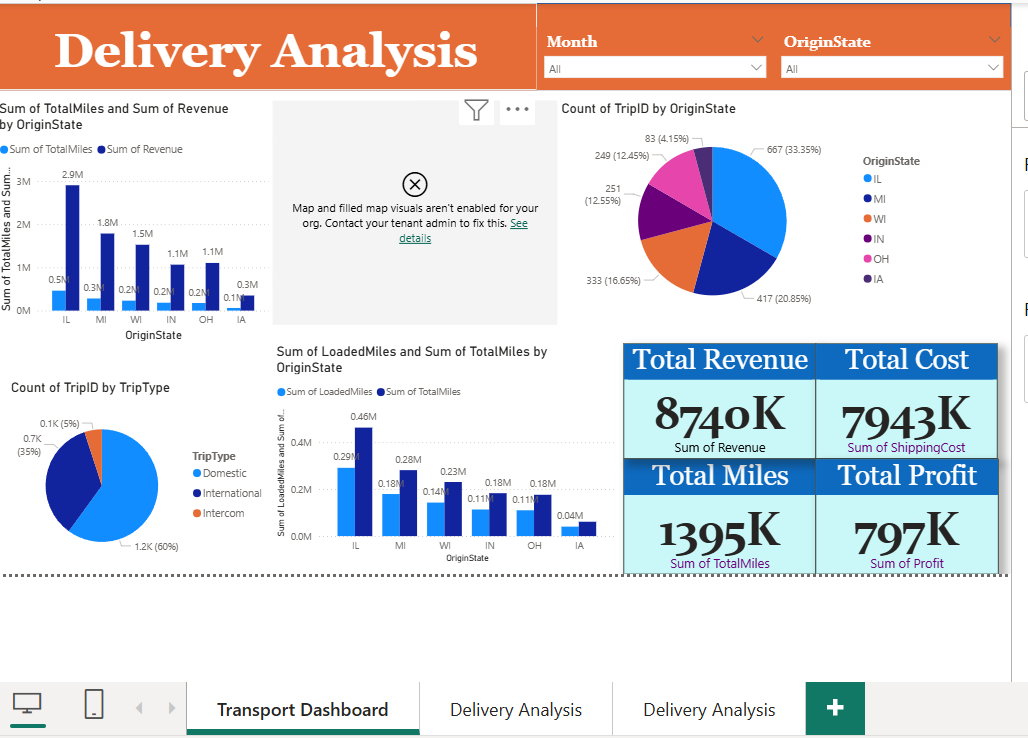

This screenshot's page, from the dashboard's own definition file:
{"tool":"powerbi","page":{"name":"Transport Dashboard","canvas":[1280,720],"ordinal":0},"visuals":[{"type":"card","title":"Total Miles","fields":{"Values":["Sum(Trips.TotalMiles)"]},"box":[791.8,575,242.9,145.5],"z":0},{"type":"card","title":"Total Revenue","fields":{"Values":["Sum(Trips.Revenue)"]},"box":[791.8,429.5,242.9,145.5],"z":1000},{"type":"card","title":"Total Cost","fields":{"Values":["Sum(Trips.ShippingCost)"]},"box":[1034.7,429.5,229.2,145.5],"z":2000},{"type":"card","title":"Total Profit","fields":{"Values":["Sum(Trips.Profit)"]},"box":[1034.7,575,230.5,145.5],"z":3000},{"type":"clusteredColumnChart","fields":{"Category":["Trips.OriginState"],"Y":["Sum(Trips.TotalMiles)","Sum(Trips.Revenue)"]},"box":[0,122.1,349.9,307.4],"z":4000},{"type":"map","fields":{"Category":["Trips.OriginCity"],"Size":["Sum(Trips.Revenue)"]},"box":[349.9,122.1,359.5,282.7],"z":5000},{"type":"slicer","fields":{"Values":["Trips.OriginState"]},"box":[1008.6,19.2,256.6,71.4],"z":6000},{"type":"slicer","fields":{"Values":["Trips.ShipDate.Variation.Date Hierarchy.Month"]},"box":[1020.9,19.2,259.3,71.4],"z":7000},{"type":"pieChart","fields":{"Y":["CountNonNull(Trips.TripID)"],"Category":["Trips.TripType"]},"box":[14.5,474.1,335.4,246.1],"z":8000},{"type":"pieChart","fields":{"Y":["CountNonNull(Trips.TripID)"],"Category":["Trips.OriginState"]},"box":[709.4,122.1,478.9,282.7],"z":9000},{"type":"clusteredColumnChart","fields":{"Y":["Sum(Trips.LoadedMiles)","Sum(Trips.TotalMiles)"],"Category":["Trips.OriginState"]},"box":[349.9,429.5,436.4,281.3],"z":10000},{"type":"shape","box":[0,0,1280.3,109.8],"z":11000},{"type":"card","fields":{"Values":["Trips.Delivery Analysis Dashboard"]},"box":[0,0,682,109.8],"z":12000},{"type":"slicer","fields":{"Values":["Trips.OriginState"]},"box":[981.1,30.2,299.1,79.6],"z":13000},{"type":"slicer","fields":{"Values":["Trips.ShipDate.Variation.Date Hierarchy.Month"]},"box":[682,30.2,299.1,79.6],"z":14000}]}

Visuals, with their boxes on the page's 1280x720 design canvas (x1, y1, x2, y2). These are canvas units, not pixel positions in the 1028x738 screenshot, which may show the page scaled, cropped or inside an application window:
"Total Miles" card: detection(792, 575, 1035, 720)
"Total Revenue" card: detection(792, 430, 1035, 575)
"Total Cost" card: detection(1035, 430, 1264, 575)
"Total Profit" card: detection(1035, 575, 1265, 720)
clusteredColumnChart - Trips.OriginState x Sum(Trips.TotalMiles): detection(0, 122, 350, 430)
map - Trips.OriginCity x Sum(Trips.Revenue): detection(350, 122, 709, 405)
slicer - Trips.OriginState: detection(1009, 19, 1265, 91)
slicer - Trips.ShipDate.Variation.Date Hierarchy.Month: detection(1021, 19, 1280, 91)
pieChart - CountNonNull(Trips.TripID) x Trips.TripType: detection(14, 474, 350, 720)
pieChart - CountNonNull(Trips.TripID) x Trips.OriginState: detection(709, 122, 1188, 405)
clusteredColumnChart - Sum(Trips.LoadedMiles) x Sum(Trips.TotalMiles): detection(350, 430, 786, 711)
shape: detection(0, 0, 1280, 110)
card - Trips.Delivery Analysis Dashboard: detection(0, 0, 682, 110)
slicer - Trips.OriginState: detection(981, 30, 1280, 110)
slicer - Trips.ShipDate.Variation.Date Hierarchy.Month: detection(682, 30, 981, 110)
